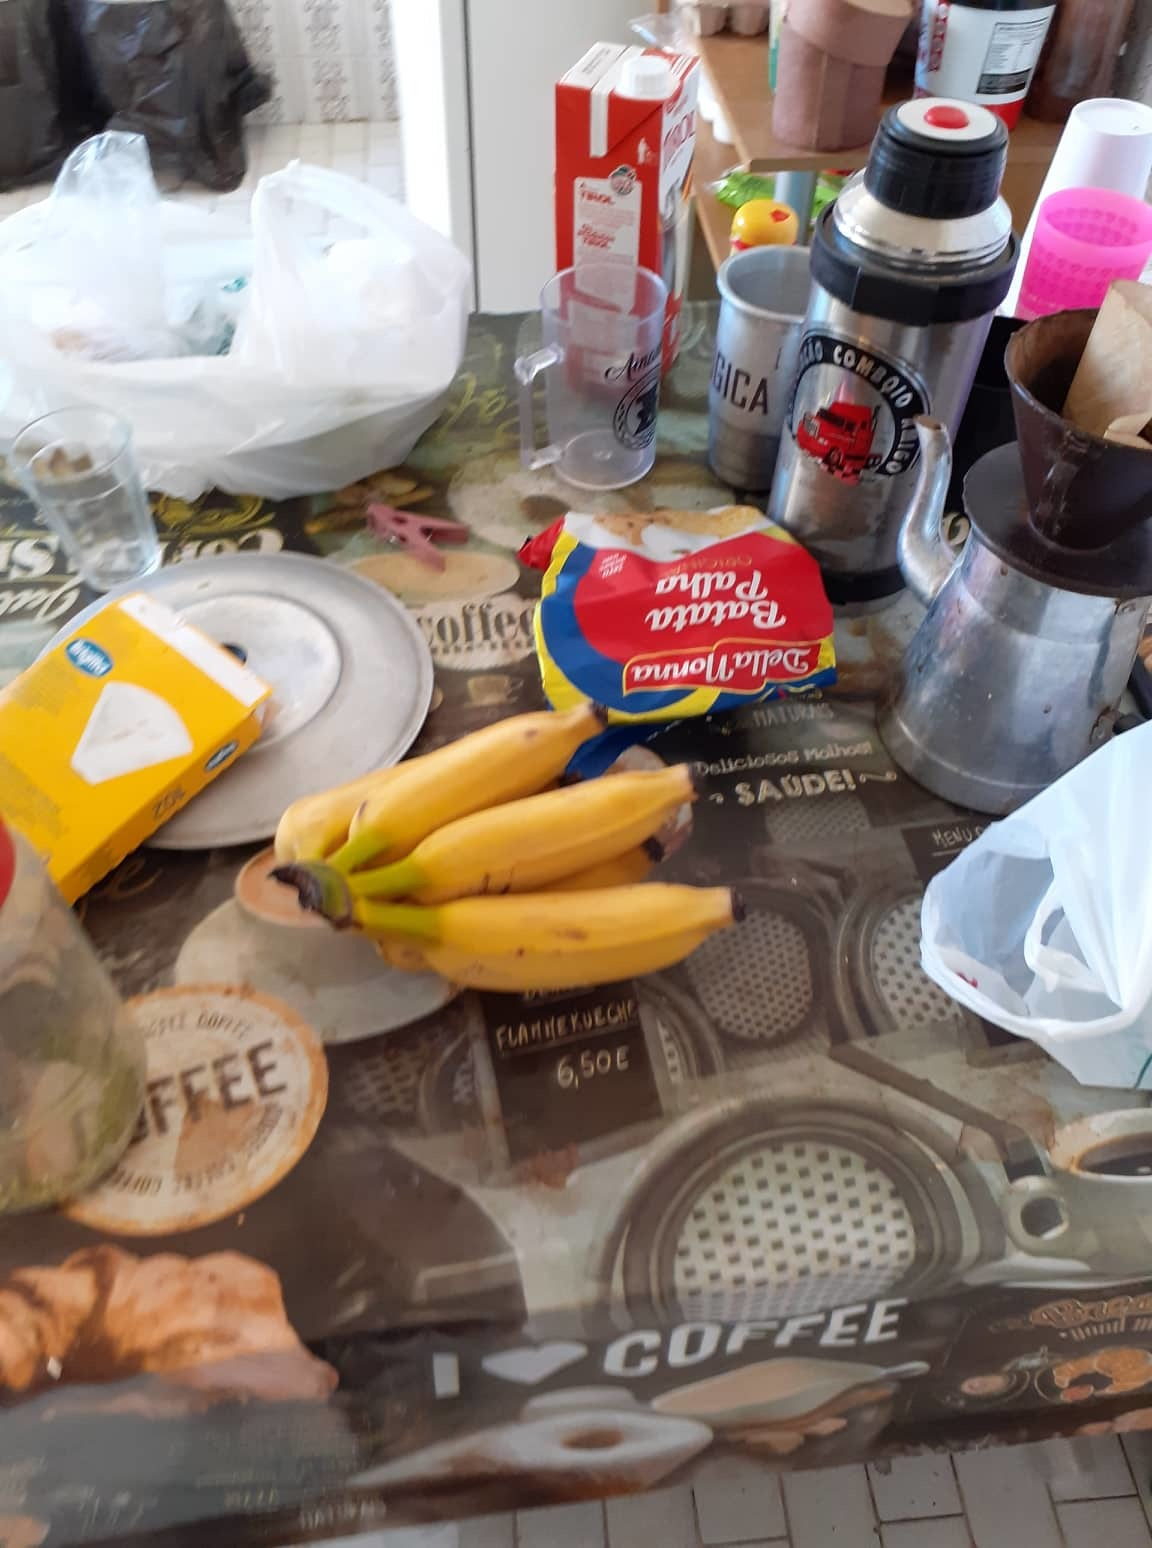banana: (269, 695, 765, 1017)
